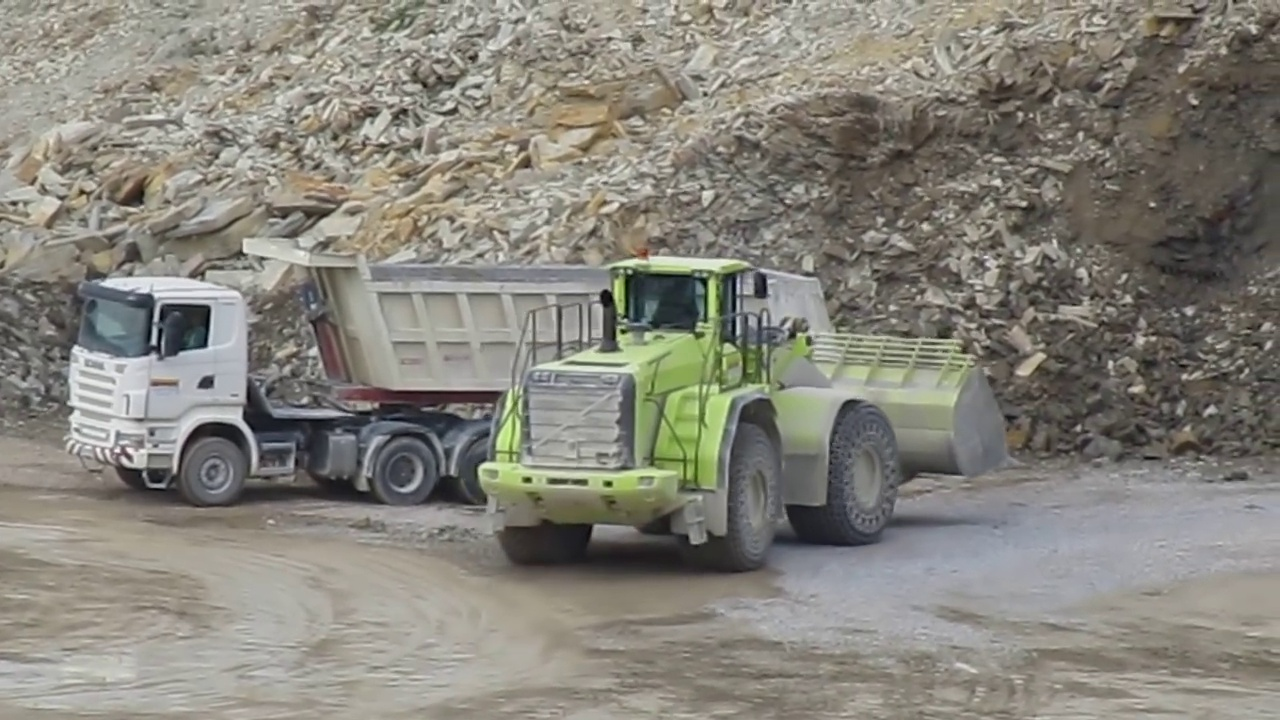truck: (65, 235, 605, 509)
wheel loader: (477, 251, 1007, 569)
